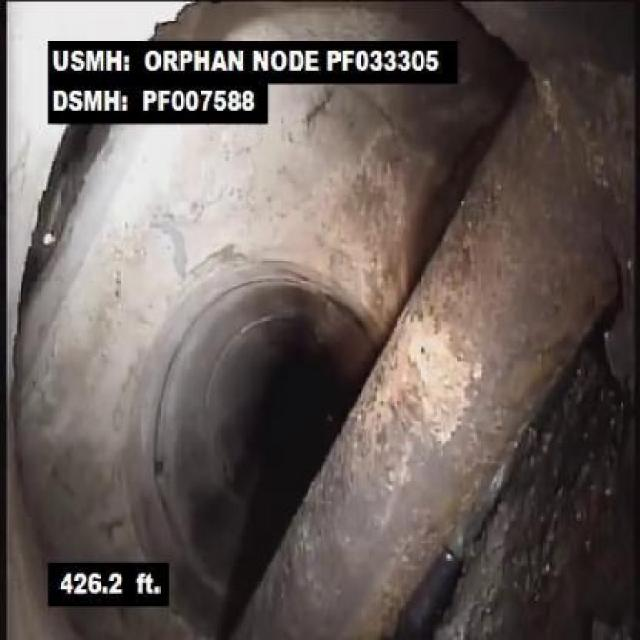Utility intrusion: (270, 103, 632, 639)
